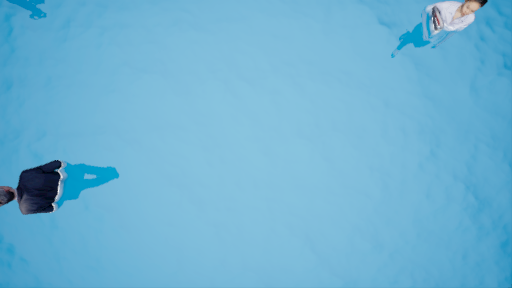person: (2, 161, 126, 218), (395, 1, 485, 58)
